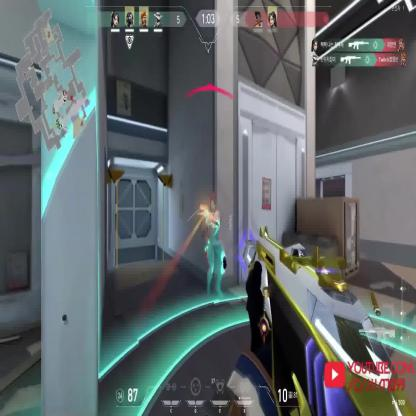enemy: (198, 195, 228, 300)
enemy_head: (209, 195, 216, 212)
